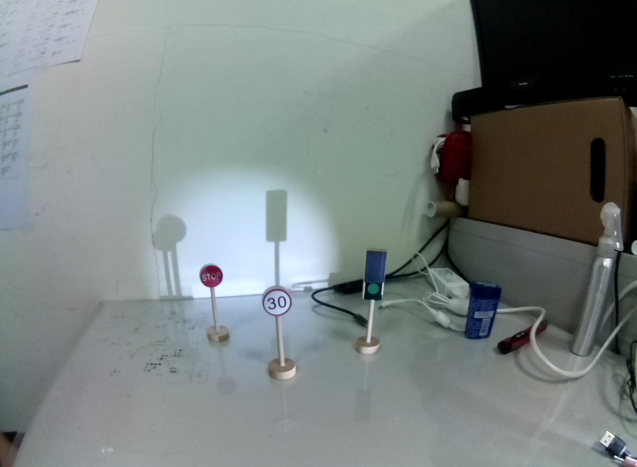Green: (361, 245, 391, 310)
Speed30: (262, 283, 295, 317)
Stop: (198, 262, 224, 290)
